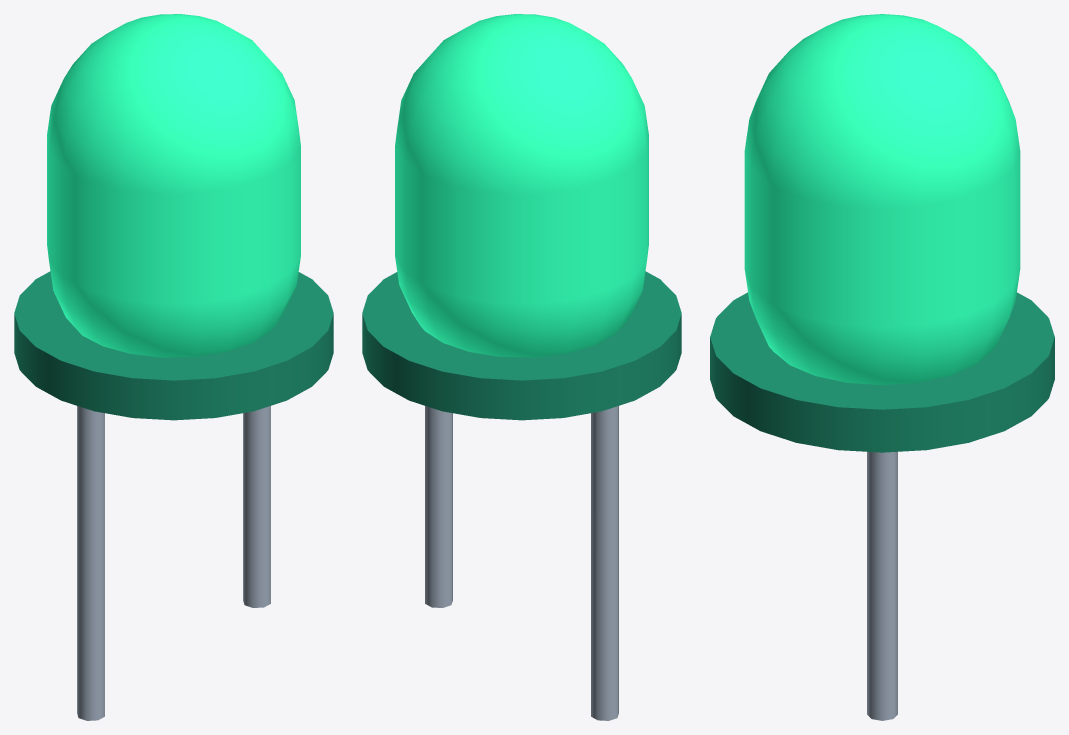
Rendered from led-green.gltf.
3 renders of one model, left to right at view 1: azimuth 30°, elevation 25°; view 2: azimuth 150°, elevation 25°; view 3: azimuth 270°, elevation 25°, orthographic. The views are drawn at different scales.
Parts seen in each view (by area): view 1: lens, collar, anode, cathode; view 2: lens, collar, anode, cathode; view 3: lens, collar, cathode.
Boxes of the visible parts, bbox=[...] form: lens: bbox=[47, 14, 300, 357]; collar: bbox=[14, 271, 333, 420]; anode: bbox=[77, 406, 104, 720]; cathode: bbox=[243, 406, 270, 607]; lens: bbox=[395, 14, 648, 357]; collar: bbox=[362, 271, 681, 420]; anode: bbox=[591, 406, 618, 720]; cathode: bbox=[425, 406, 452, 607]; lens: bbox=[744, 14, 1020, 385]; collar: bbox=[710, 292, 1054, 452]; cathode: bbox=[867, 451, 897, 720].
Bounding box in the file's own units: 0.4 × 0.925 × 0.4.
